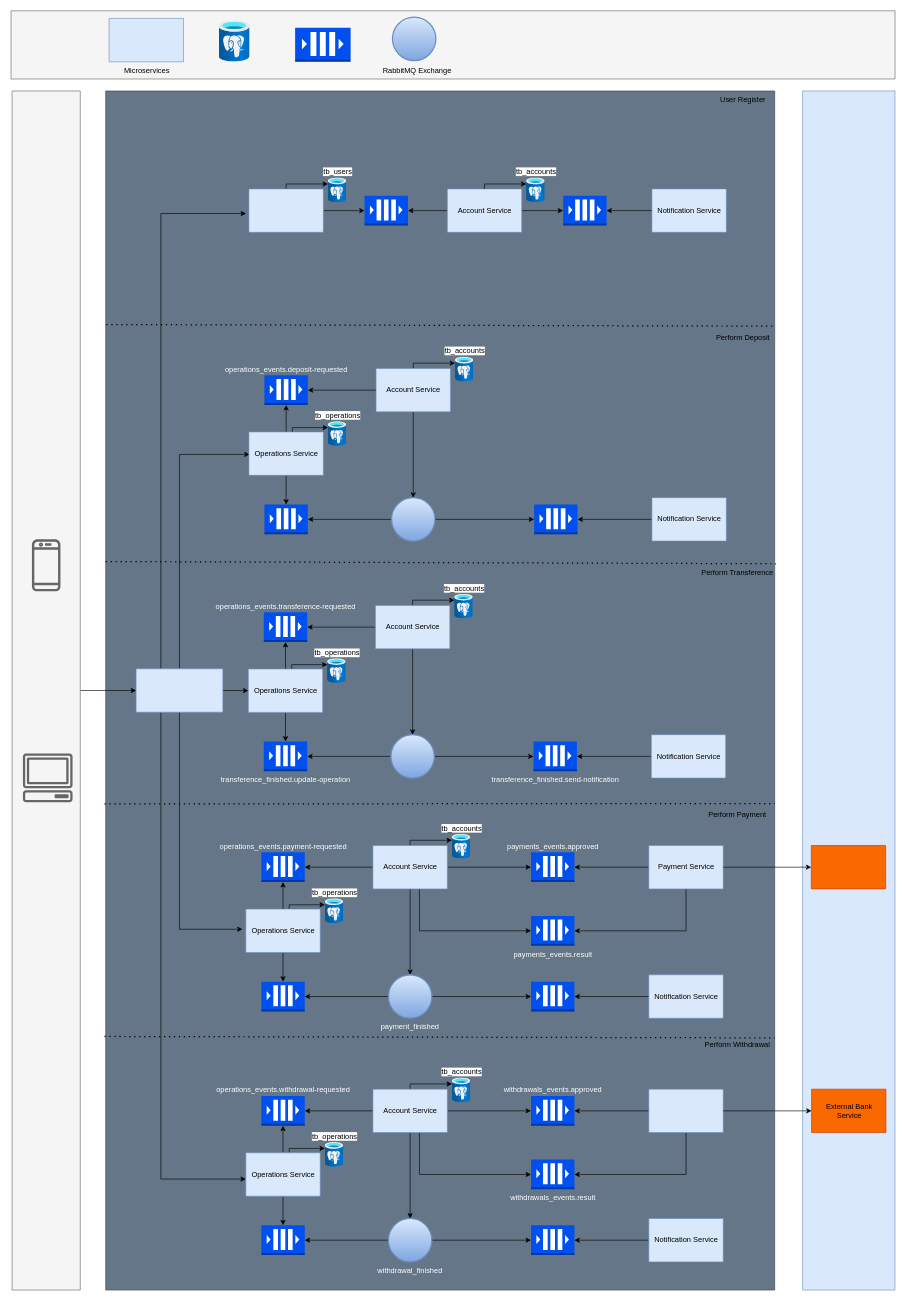
The diagram is 906 pixels wide and 1301 high, and some of its shapes have lost their labels. The centre of each missing label's shape, as x and y in pixels:
accounts_events.created: the point at 585,210
Api Gateway roteamento/load balance: the point at 179,690
Client: the point at 47,777
deposit_finished: the point at 413,519
deposit_finished.send-notification: the point at 556,519
deposit_finished.update-operation: the point at 286,519
External Payment Service: the point at 848,867
Mobile client: the point at 46,565
payment_finished.send-notification: the point at 552,996
payment_finished.update-operation: the point at 283,996
PostgreSQL DB: the point at 234,41
RabbitMQ Queue: the point at 322,44
transference_finished: the point at 412,756
User Service: the point at 285,210
users_events.created: the point at 386,210
Withdrawal Service: the point at 685,1111
withdrawal_finished.send-notification: the point at 552,1240
withdrawal_finished.update-operation: the point at 283,1240
